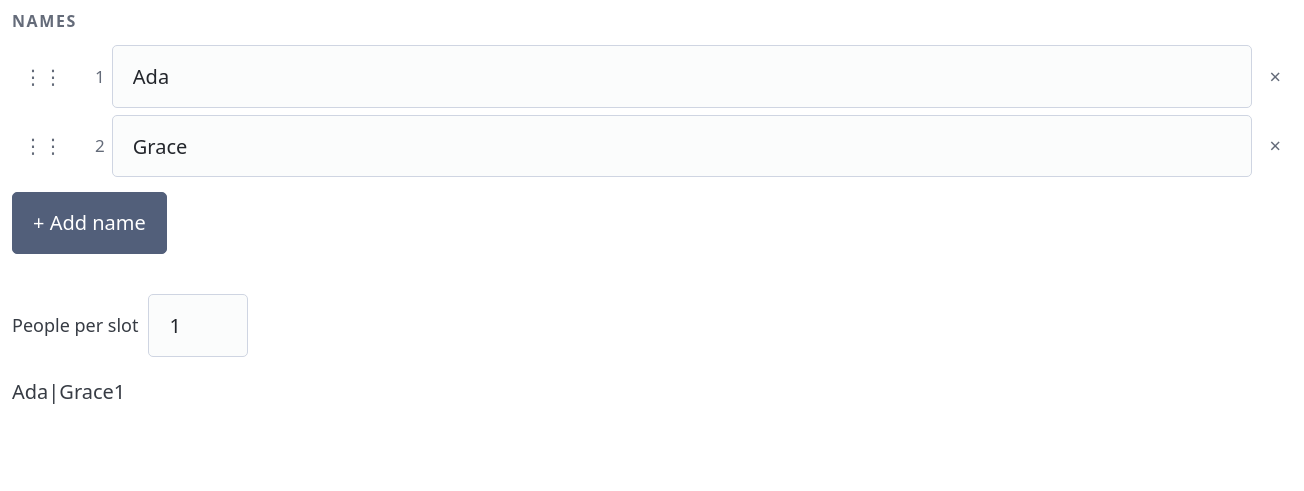
Test: NameList › Enter commits and opens a new row
Click the field named "Name 1": (682, 77) top-left (112, 45), bottom-right (1252, 108)
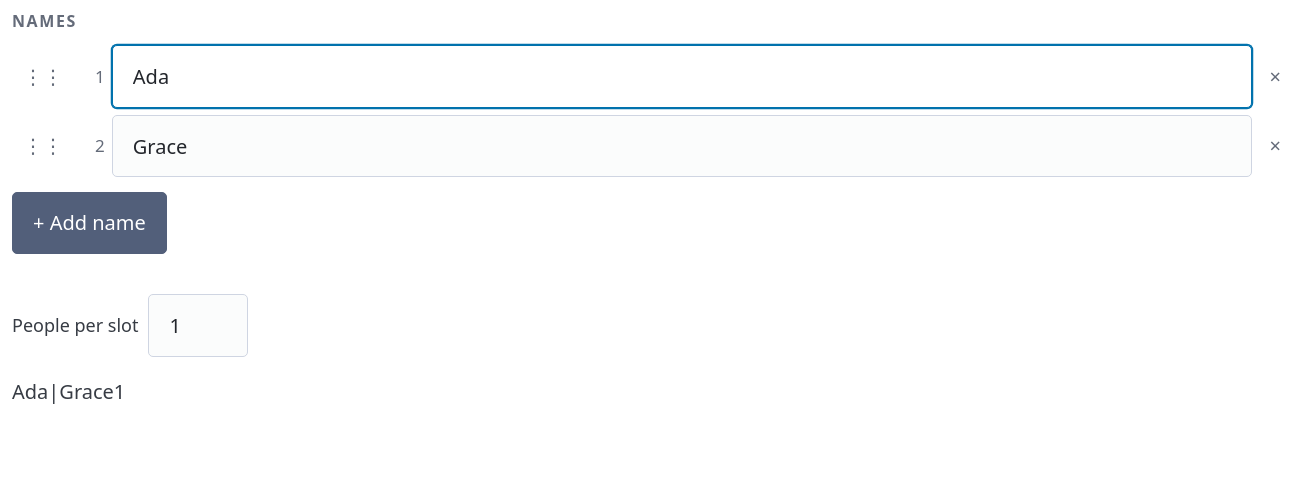
Press Enter
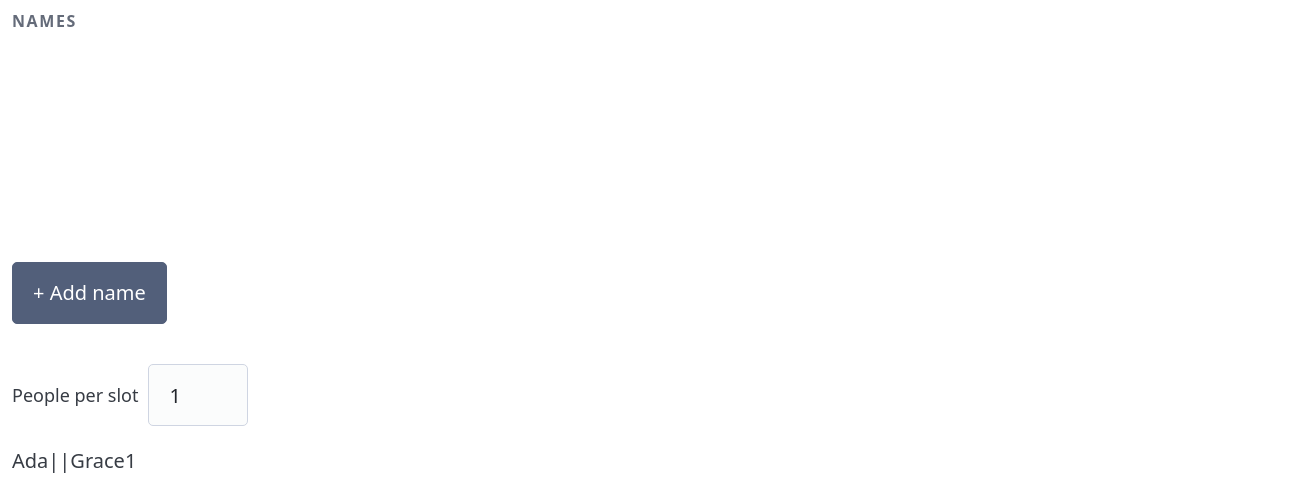
Result: the text with test id "names" reads "Ada||Grace" at top-left (12, 447), bottom-right (125, 474)
